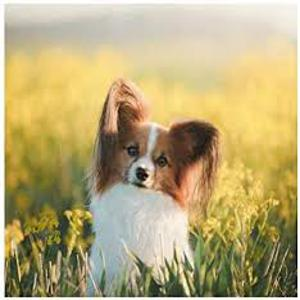yell: (92, 78, 219, 292)
